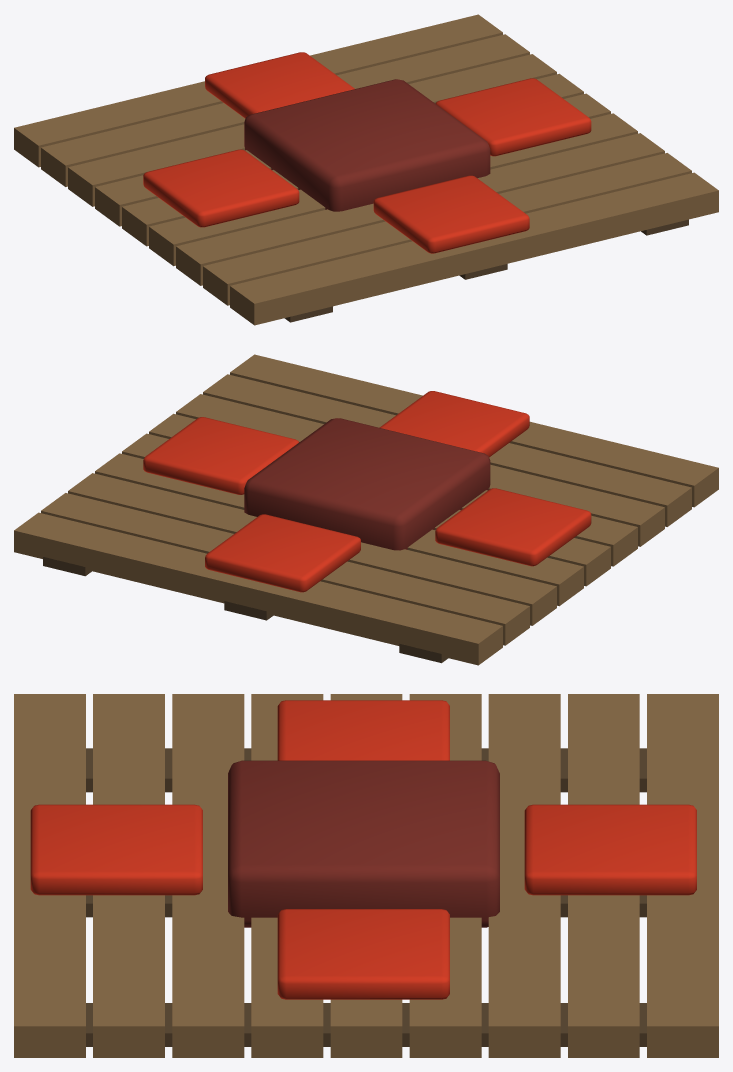
File: Tatami Chairs_1.fbx
The picture shows the model from 3 angles, top to bottom: view 1: azimuth 30°, elevation 25°; view 2: azimuth 150°, elevation 25°; view 3: azimuth 270°, elevation 25°; orthographic projection. The views are drawn at different scales.
Visible parts, largest first — view 1: Tatami Chairs_1; view 2: Tatami Chairs_1; view 3: Tatami Chairs_1.
Boxes of the visible parts, x1=… form: Tatami Chairs_1: x1=14, y1=14, x2=718, y2=325; Tatami Chairs_1: x1=14, y1=354, x2=718, y2=665; Tatami Chairs_1: x1=14, y1=694, x2=718, y2=1057.
Size of the model in its own units: 201 by 24.99 by 180.
